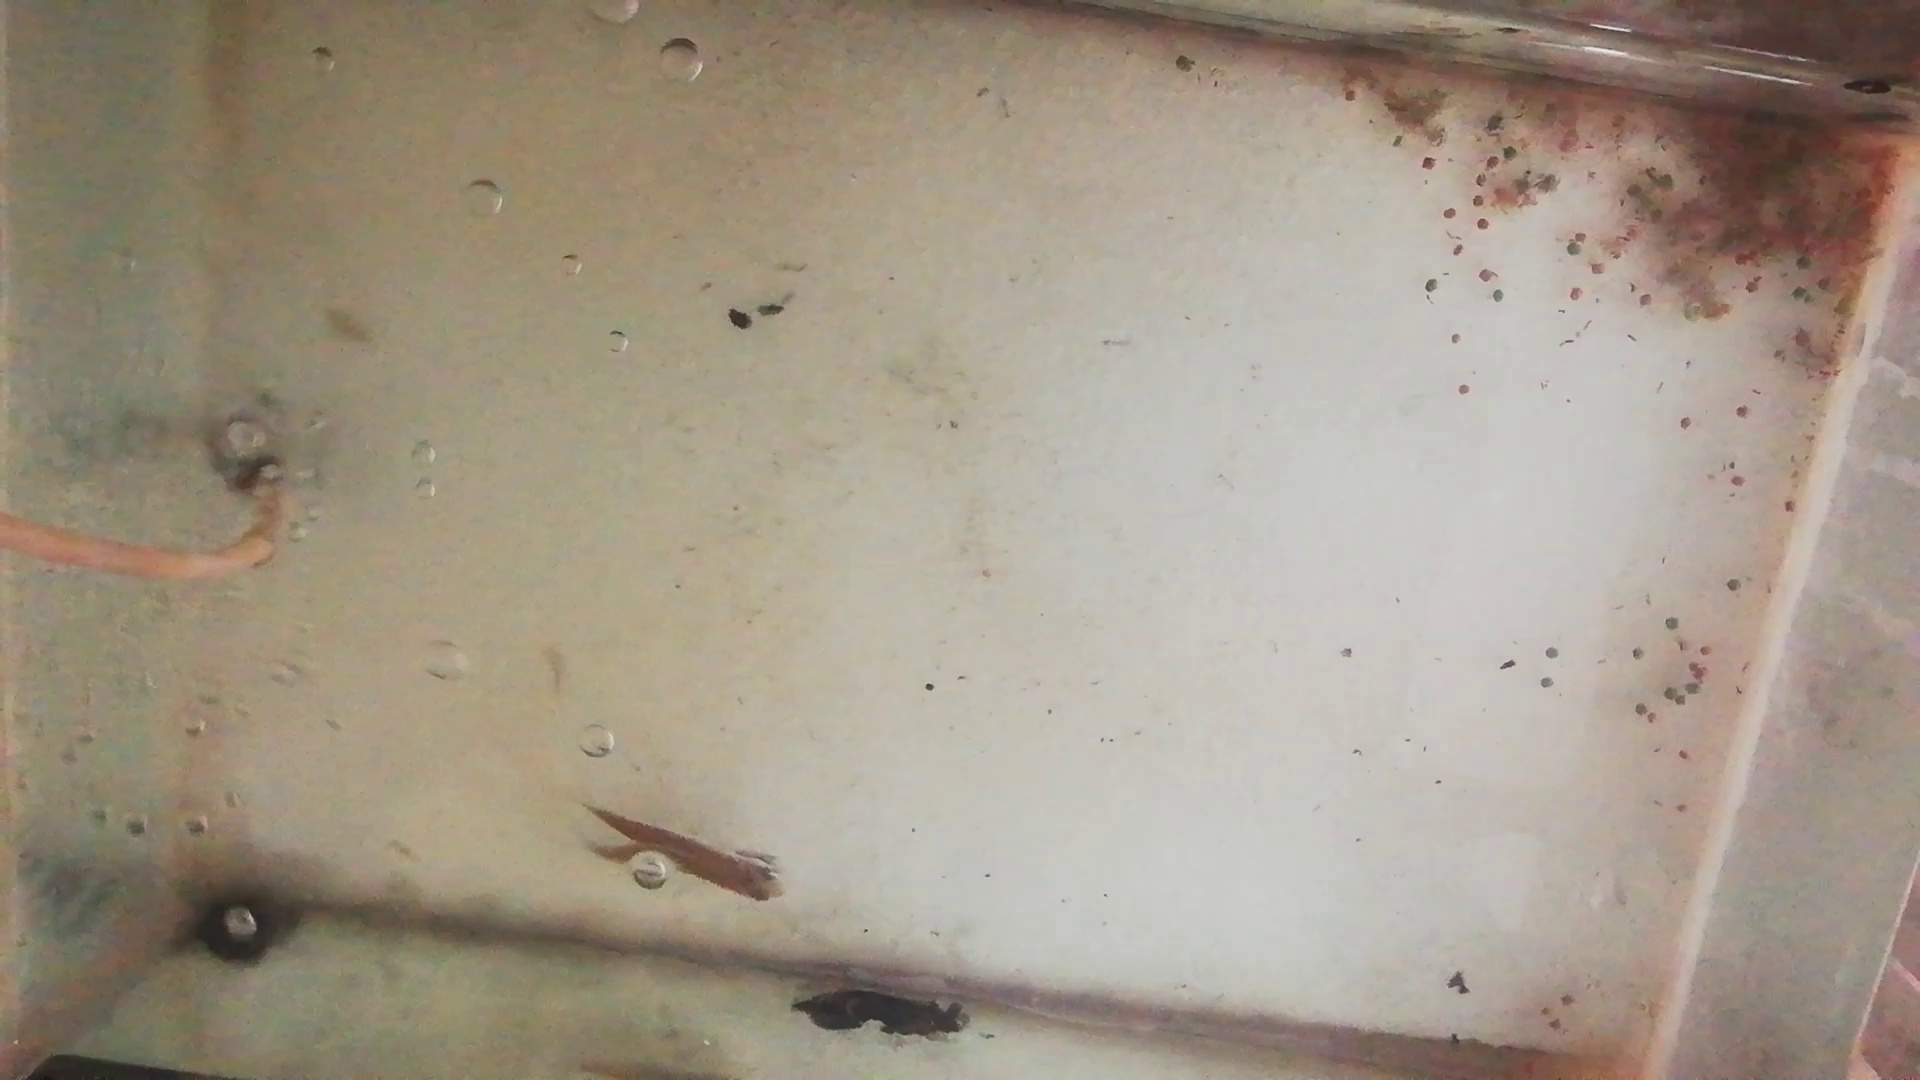fish: (579, 791, 777, 897)
